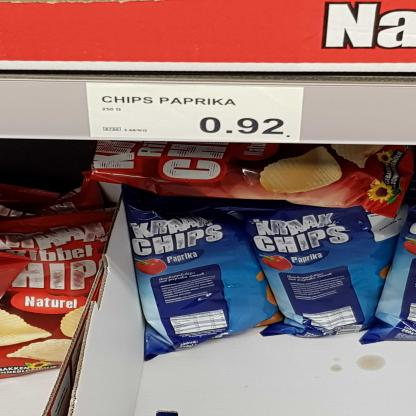prtg: (86, 83, 306, 144)
